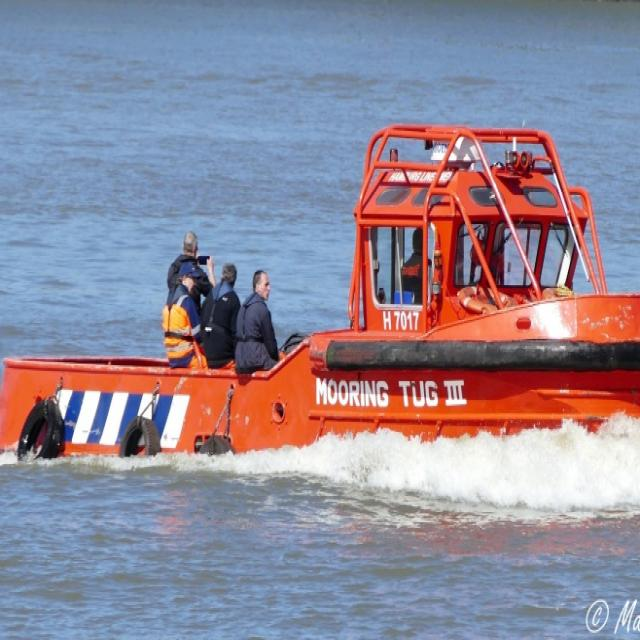tugboat: (1, 115, 640, 483)
